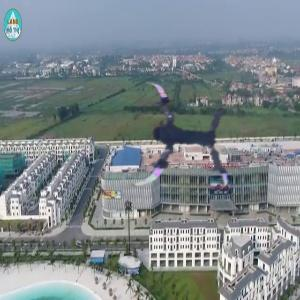drone: (114, 77, 236, 199)
